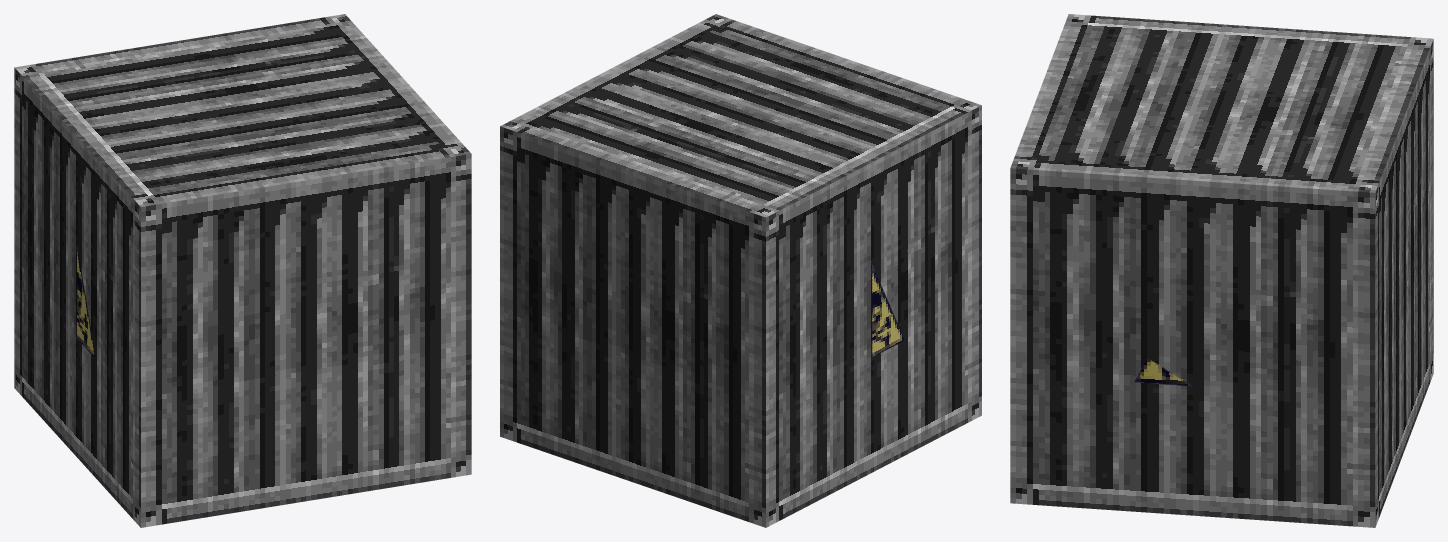
The model's file is primary_061.glb.
3 renders of one model, left to right at view 1: azimuth 30°, elevation 25°; view 2: azimuth 150°, elevation 25°; view 3: azimuth 270°, elevation 25°, orthographic. The views are drawn at different scales.
Visible parts, largest first — view 1: Object; view 2: Object; view 3: Object.
Part boxes in pixels (x1=…): Object: x1=14, y1=14, x2=471, y2=527; Object: x1=500, y1=14, x2=981, y2=527; Object: x1=1010, y1=14, x2=1433, y2=527.
Bounding box in the file's own units: 1.36 × 1.18 × 1.36.
Materials: 2 (2 with a texture image).
